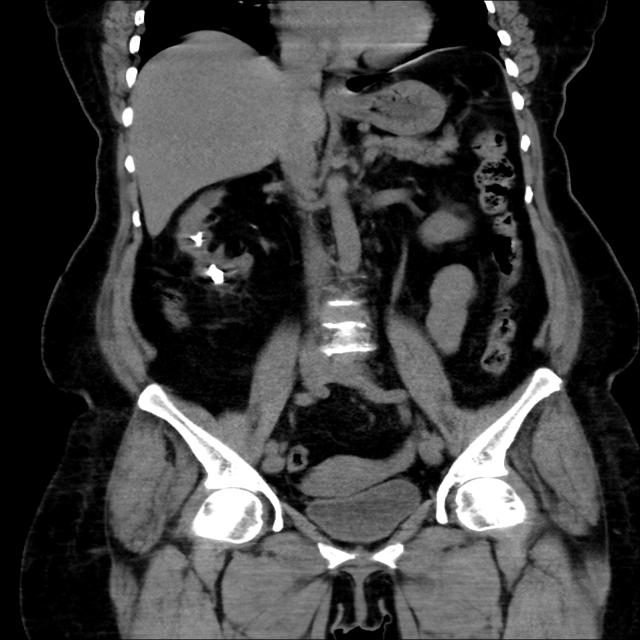kidneystone: (206, 264, 223, 284)
